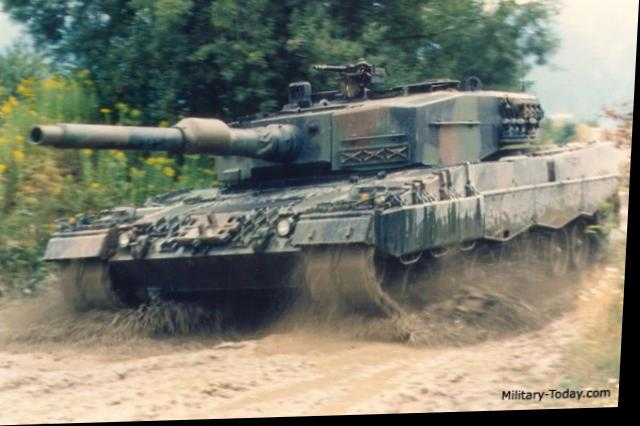other: (43, 67, 626, 350)
